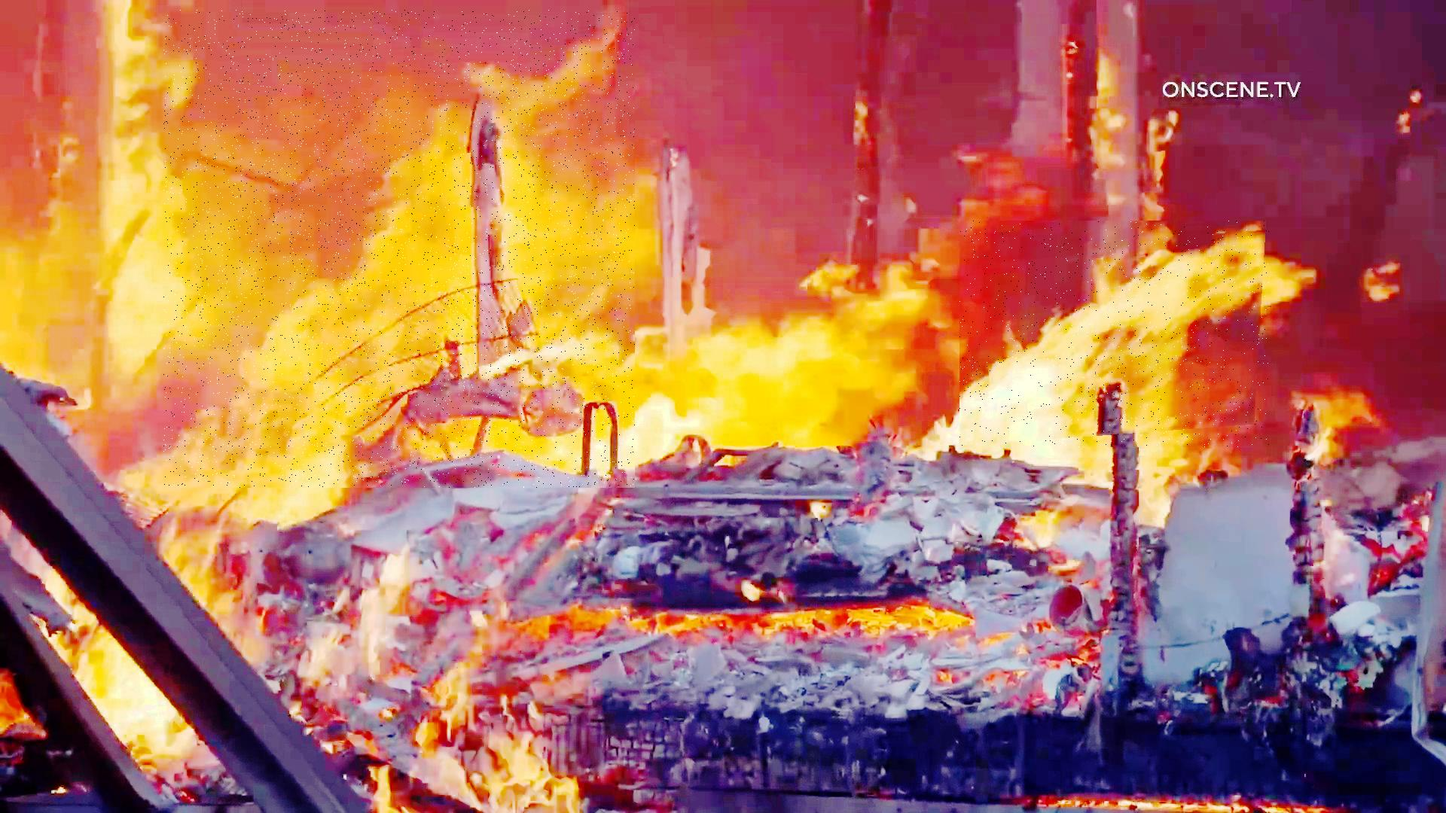fire: (164, 10, 635, 488), (960, 221, 1270, 447)
